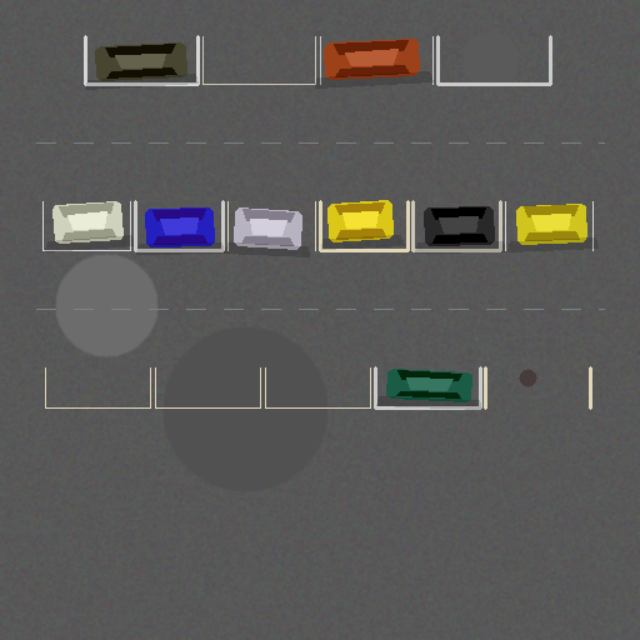space-empty: (437, 36, 550, 84), (203, 36, 315, 84), (45, 368, 150, 408), (155, 368, 260, 408), (265, 368, 370, 408), (485, 368, 590, 408)
space-occupied: (320, 36, 433, 84), (85, 36, 197, 84), (135, 201, 223, 250), (227, 201, 315, 250), (505, 201, 593, 250), (43, 201, 130, 250), (320, 201, 407, 250), (413, 201, 500, 250), (375, 368, 480, 408)
